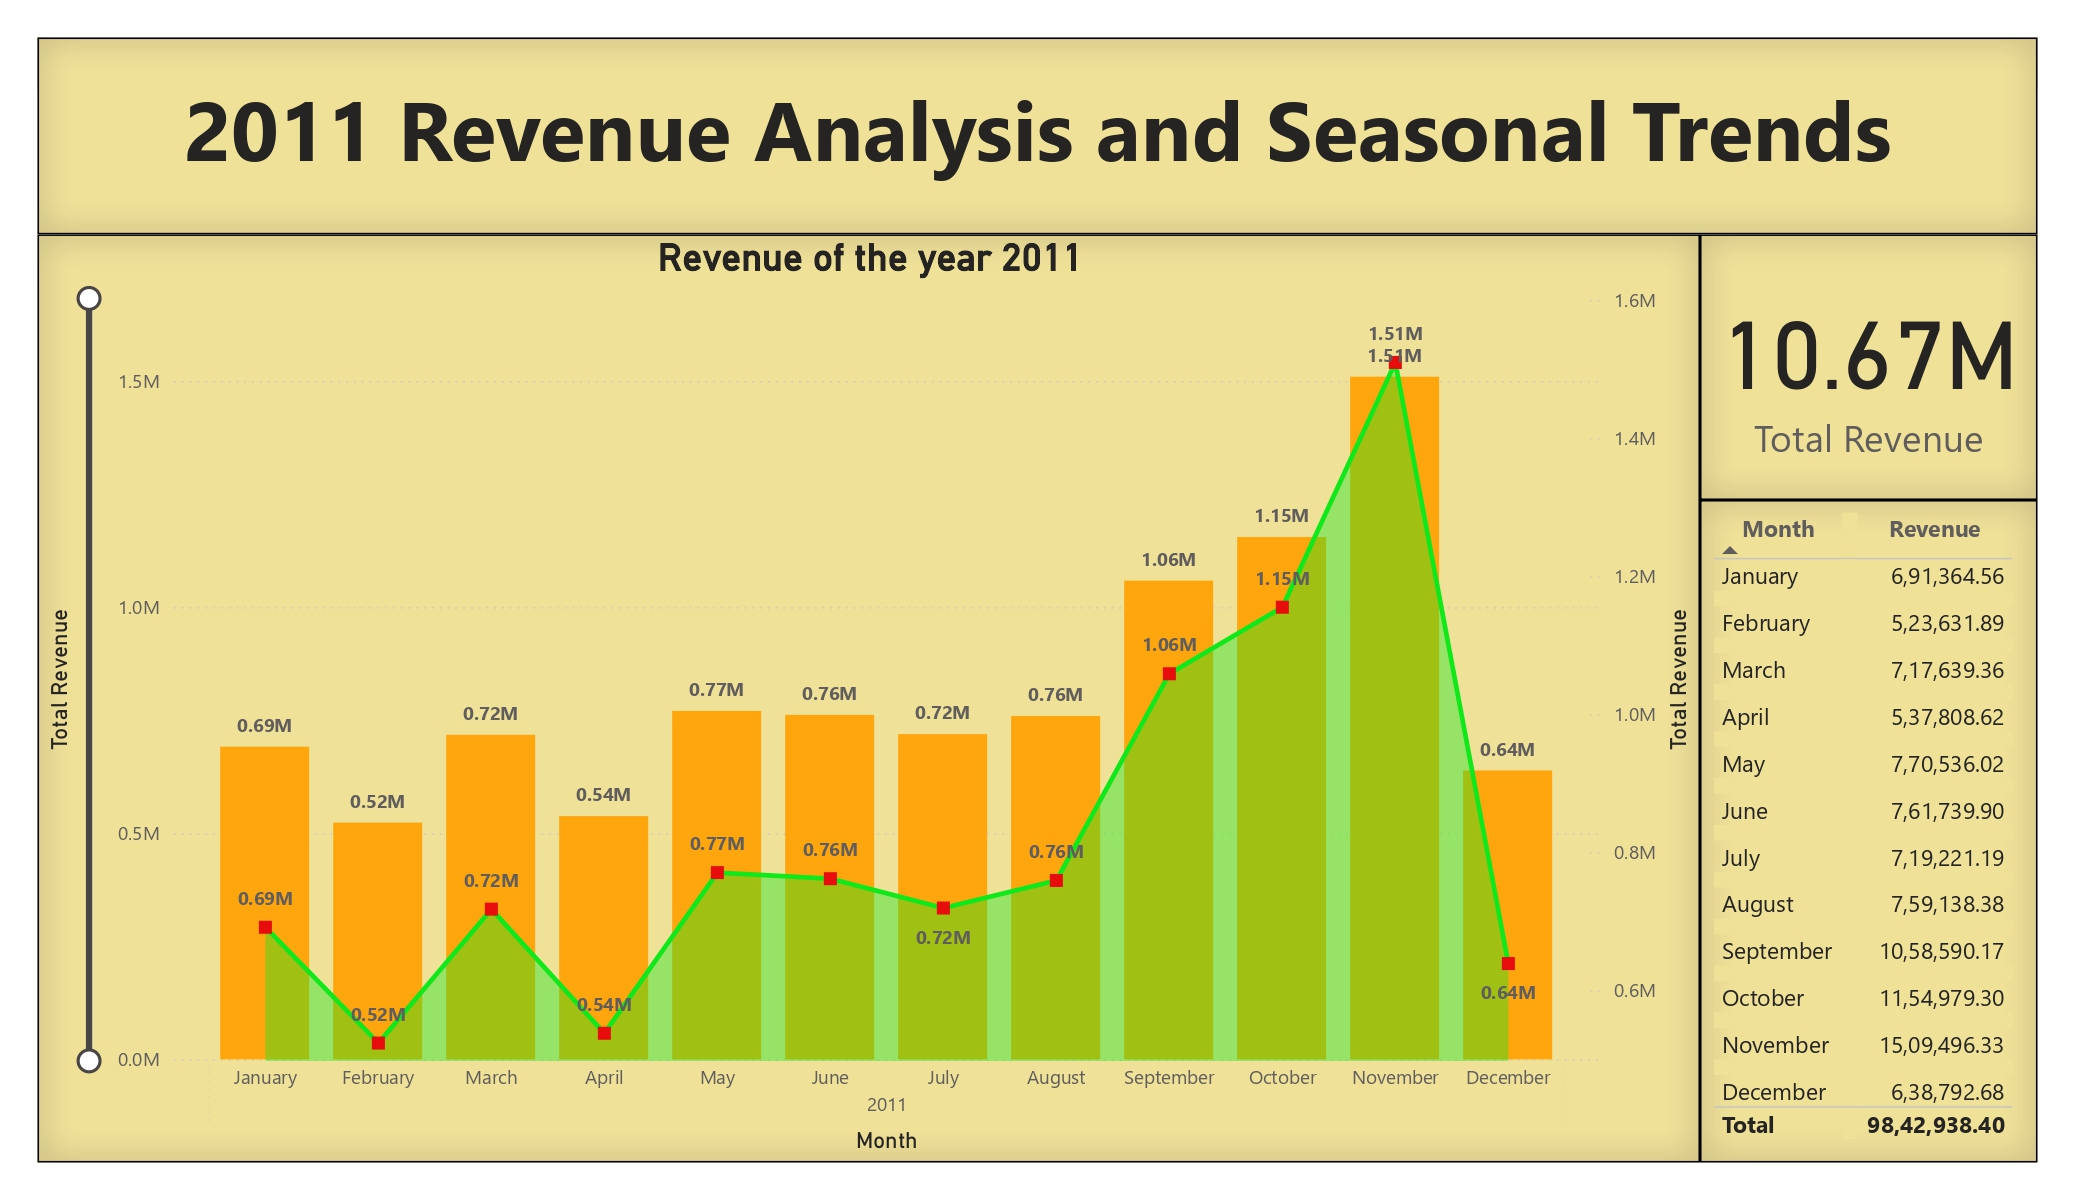

The page's visual inventory and layout, read from the dashboard file:
{"tool":"powerbi","page":{"name":"Q1","canvas":[1280,720],"ordinal":0},"visuals":[{"type":"lineClusteredColumnComboChart","title":"Revenue of the year 2011","fields":{"Category":["Online Retail.InvoiceDate.Variation.Date Hierarchy.Year","Online Retail.InvoiceDate.Variation.Date Hierarchy.Month"],"Y":["Sum(Online Retail.Total)"],"Y2":["Sum(Online Retail.Total)"]},"box":[0,125.7,1064.3,594.3],"z":0},{"type":"tableEx","fields":{"Values":["Online Retail.InvoiceDate.Variation.Date Hierarchy.Month","Sum(Online Retail.Total)"]},"box":[1064.3,295.7,215.7,424.3],"z":1000},{"type":"card","fields":{"Values":["Sum(Online Retail.Total)"]},"box":[1064.3,125.7,215.7,170],"z":3000},{"type":"textbox","box":[0,0,1280,125.7],"z":4000}]}

Visuals, with their boxes in screenshot pixels (x1, y1, x2, y2):
"Revenue of the year 2011" lineClusteredColumnComboChart: rect(38, 234, 1700, 1162)
tableEx - Online Retail.InvoiceDate.Variation.Date Hierarchy.Month x Sum(Online Retail.Total): rect(1700, 500, 2038, 1162)
card - Sum(Online Retail.Total): rect(1700, 234, 2038, 500)
textbox: rect(38, 38, 2038, 234)
